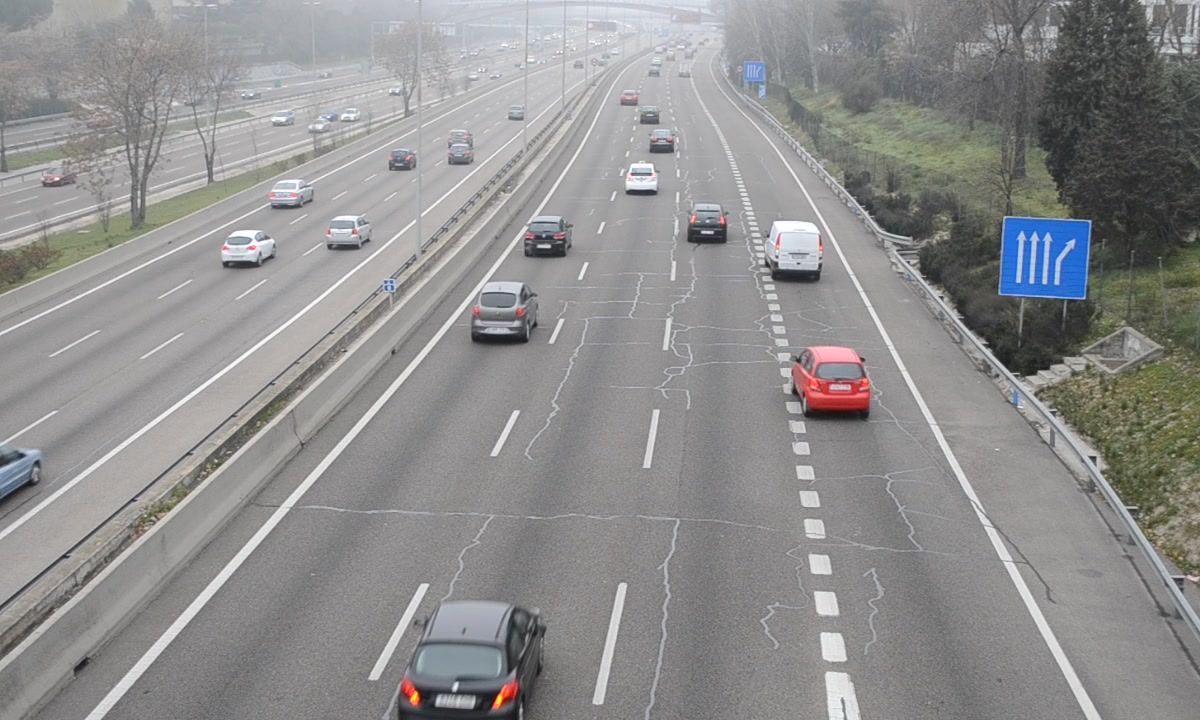car: (400, 601, 546, 720), (793, 344, 871, 412), (470, 281, 537, 337), (525, 215, 573, 254), (688, 202, 726, 242), (623, 159, 661, 196), (650, 126, 675, 152)
van: (765, 220, 825, 276)
